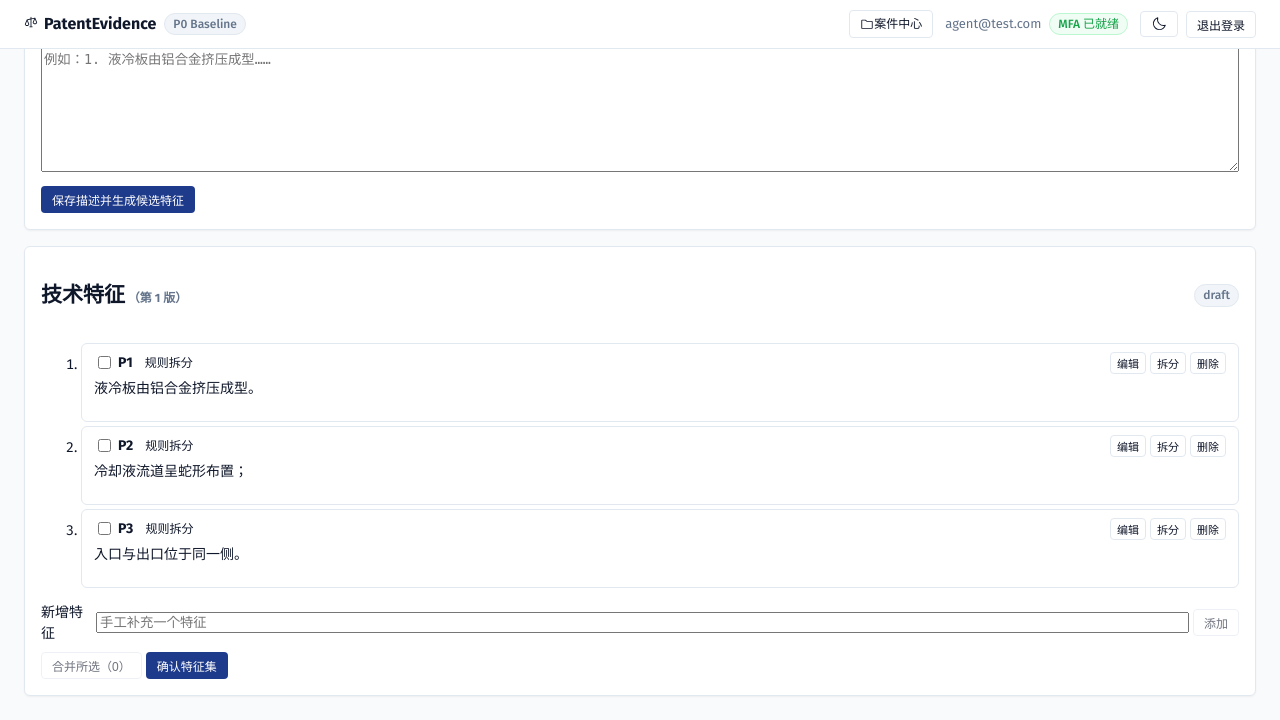
Test: Product features workbench (ADR 0010) › confirms only through the dialog that states the set becomes immutable
(page scrolled)
Expected: the list item with test id "feature-P1" is shown, top-left (81, 343), bottom-right (1239, 422)
Step 1. Click the button "确认特征集" → (187, 665), box top-left (146, 652), bottom-right (228, 679)
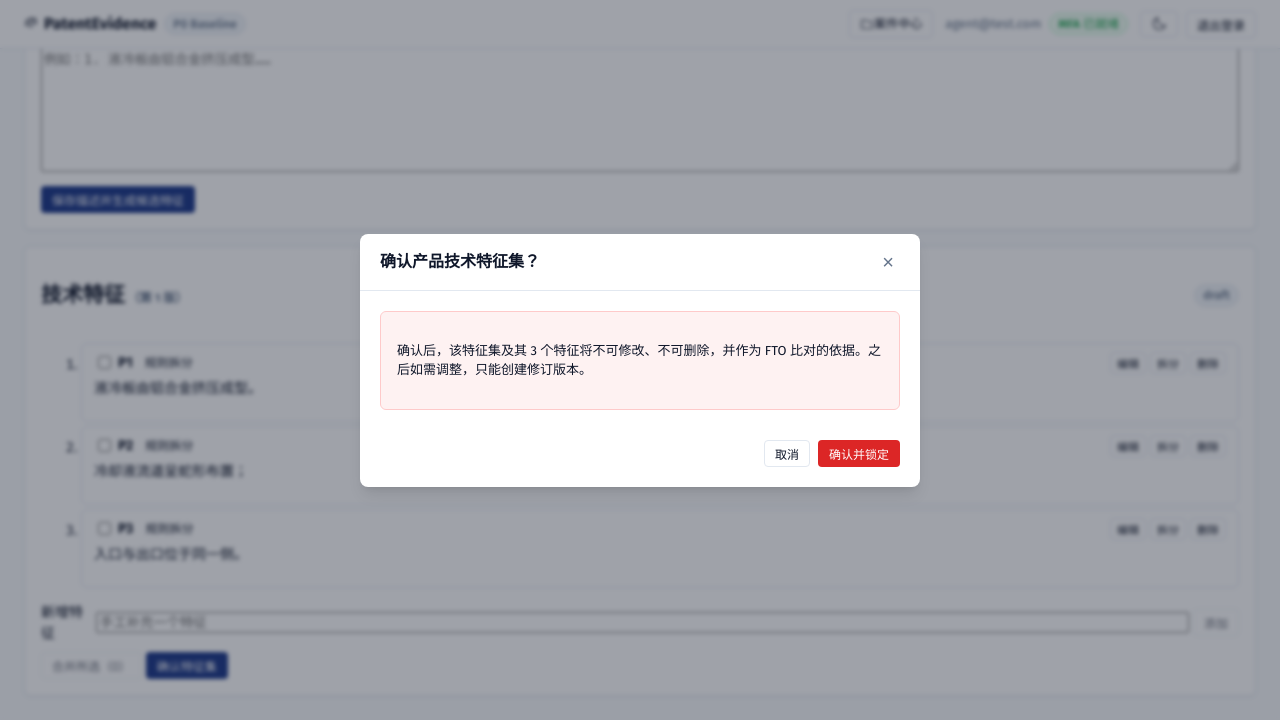
Now the text "确认后，该特征集及其 3 个特征将不可修改、不可删除，并作为 FTO 比对的依据。之后如需调整，只能创建修订版本。" is shown, box top-left (397, 340), bottom-right (883, 380)
Step 2. Click the button "确认并锁定" → (859, 453), box top-left (818, 440), bottom-right (900, 466)
(page scrolled)
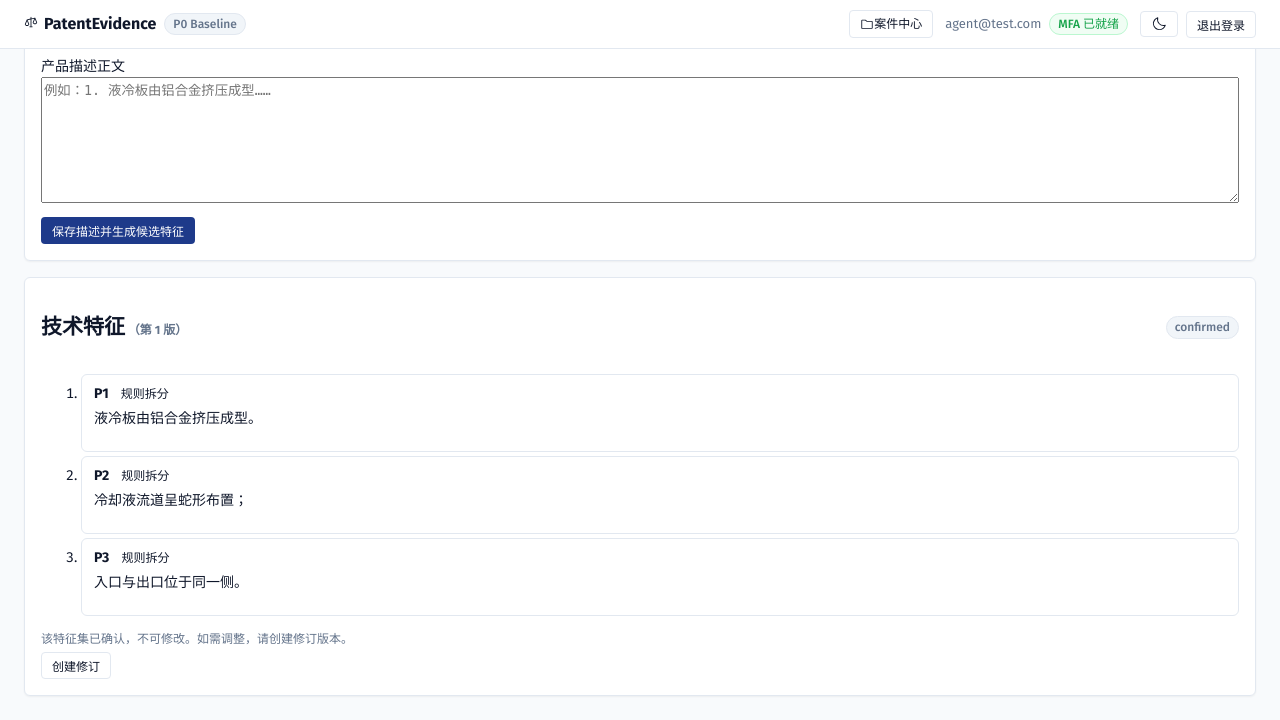
Now the text "该特征集已确认，不可修改。如需调整，请创建修订版本。" is shown, box top-left (41, 632), bottom-right (353, 646)
